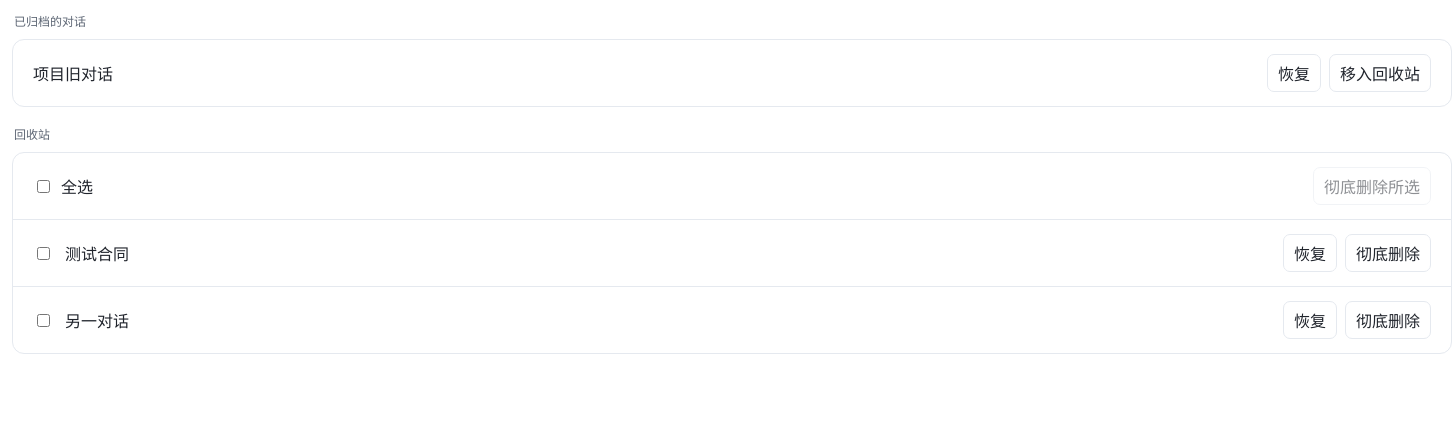
回收站支持选择、全选和直接批量删除，失败项可重试
Click the checkbox named "选择：测试合同" at (44, 253), box [37,246,50,260]
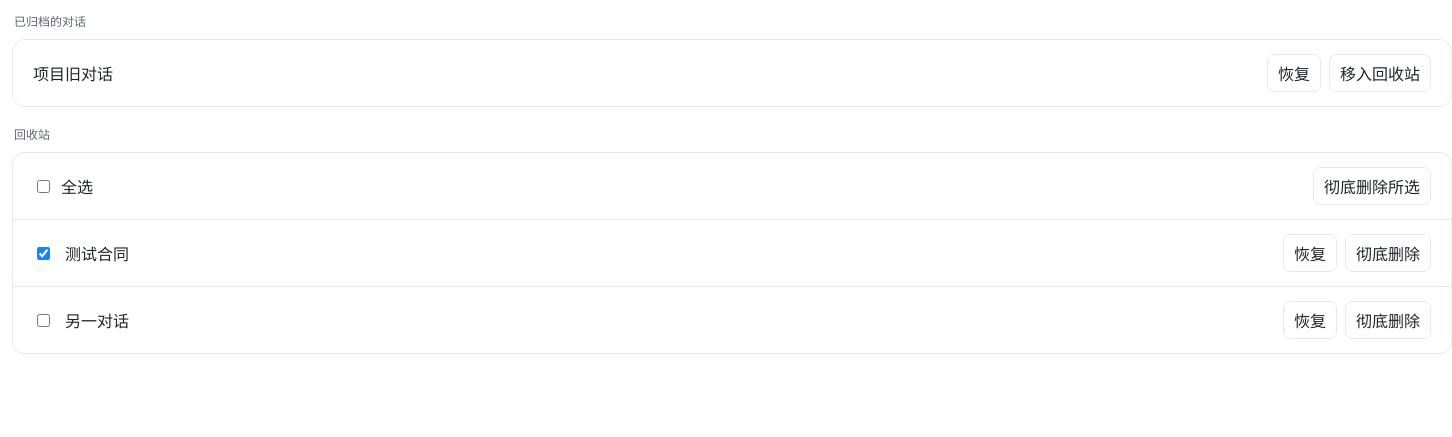
Click the checkbox named "全选回收站对话" at (44, 186), box [37,180,50,192]
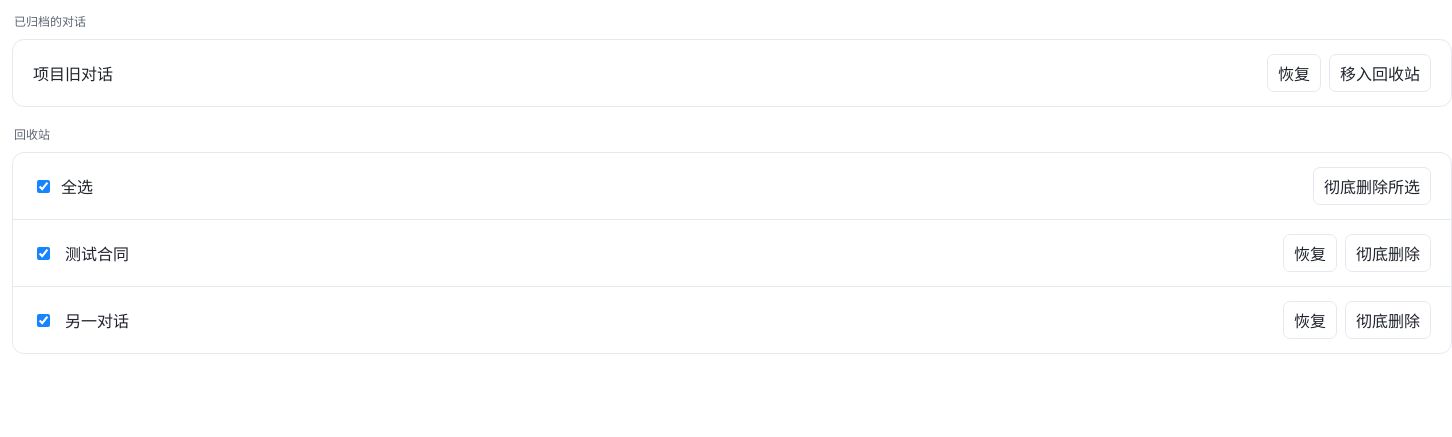
Check: the checkbox named "全选回收站对话" is checked, box [37,180,50,192]
Click the button "彻底删除所选" at (1372, 186), box [1313,167,1431,205]
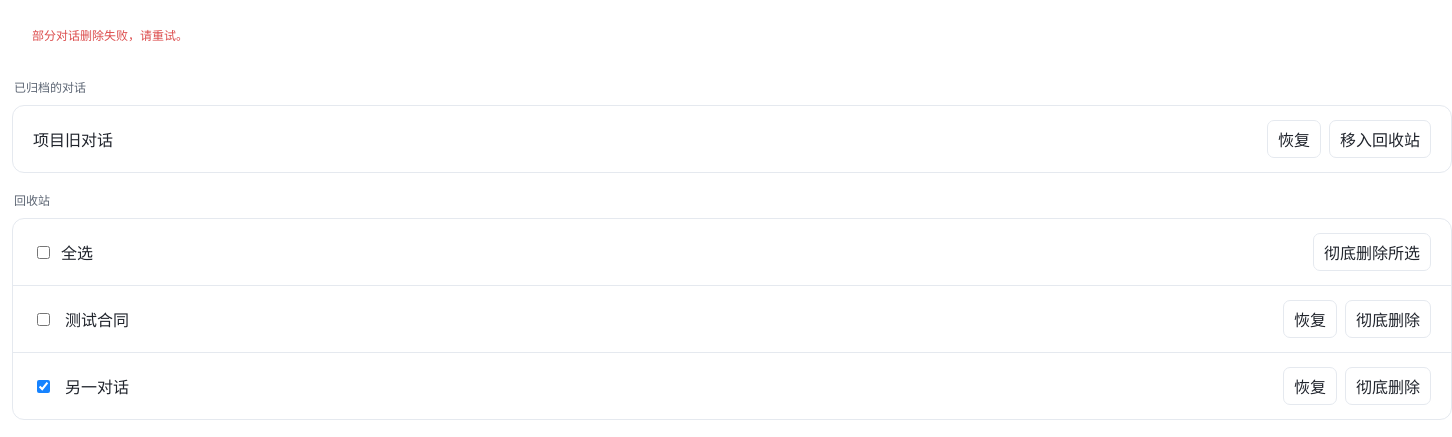
Check: the checkbox named "选择：测试合同" is not checked, box [37,313,50,326]
Check: the checkbox named "选择：另一对话" is checked, box [37,380,50,393]
Check: the message shows "部分对话删除失败", box [32,28,188,43]
